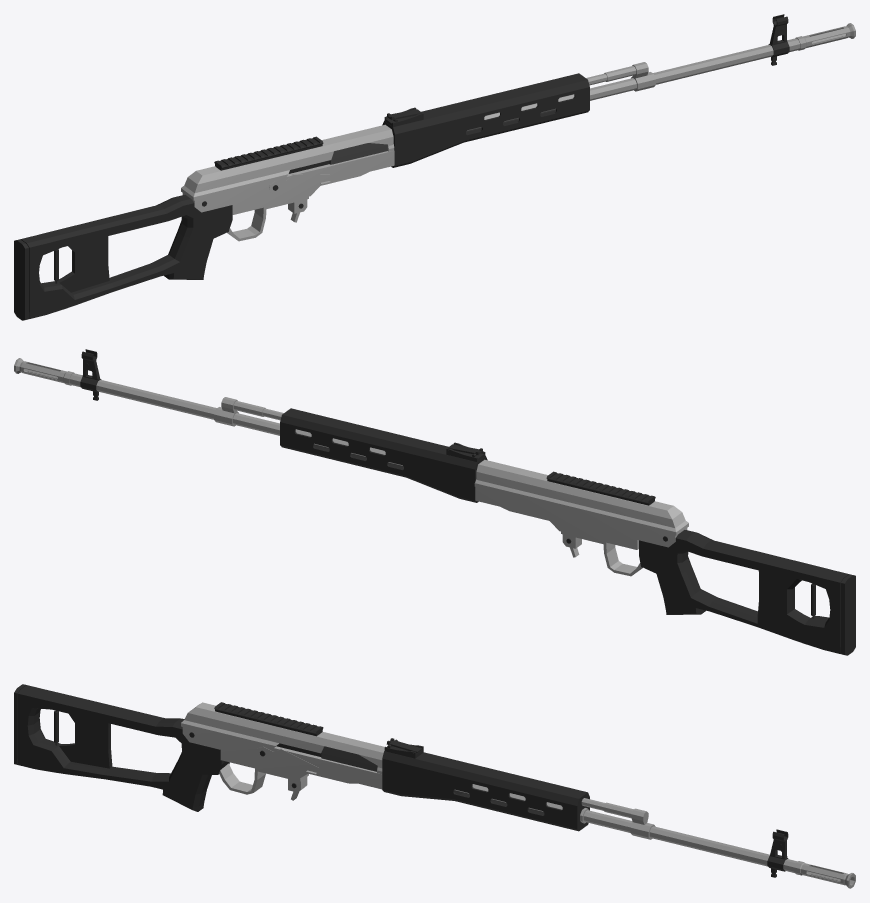
File: SniperRifle2_06.fbx
The picture shows the model from 3 angles, top to bottom: view 1: azimuth 30°, elevation 25°; view 2: azimuth 150°, elevation 25°; view 3: azimuth 330°, elevation 25°; orthographic projection.
Parts seen in each view (by area): view 1: SniperRifle2_06; view 2: SniperRifle2_06; view 3: SniperRifle2_06.
Part boxes in pixels (left/top/right/bottom): SniperRifle2_06: left=14, top=14, right=855, bottom=320; SniperRifle2_06: left=14, top=349, right=855, bottom=655; SniperRifle2_06: left=14, top=684, right=855, bottom=888.
Size of the model in its own units: 1.51 by 0.2075 by 0.0444.
